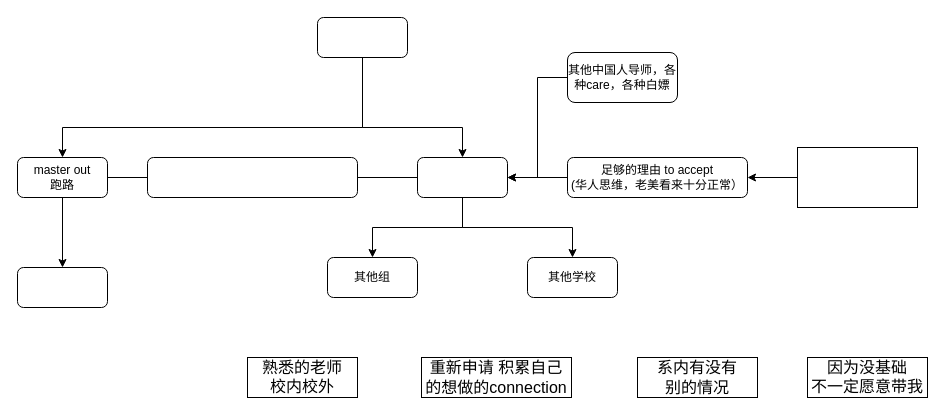
This 945x415 diagram has some shape labels left out. Here are the shapes that lost their labels. From the top down, the centre of each, then its label:
point 362,37: 有问题
point 252,177: 与秘书的关系 处理行政事物的人 系主任和小秘处理矛盾
point 462,177: 换导师
point 857,177: 我有自己更感兴趣的 有自己的研究方向 有成熟的idea
point 62,287: 系主任协商
